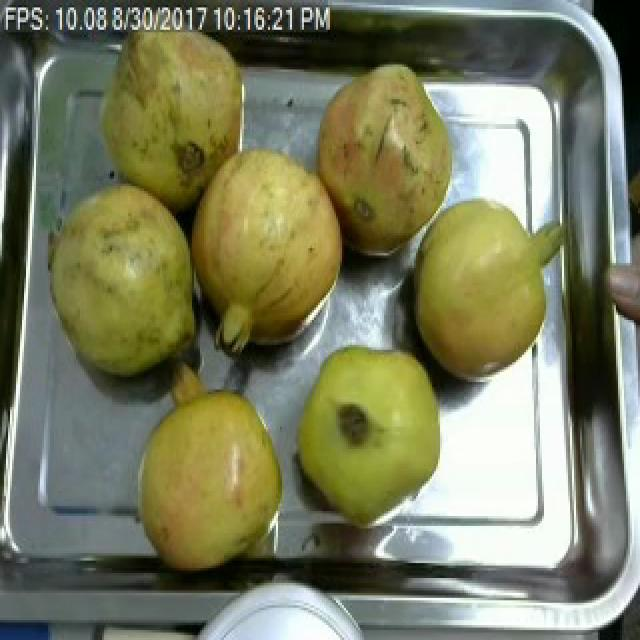fruit: (180, 132, 356, 374), (32, 161, 212, 397), (120, 365, 296, 578), (82, 0, 256, 203), (302, 52, 462, 270), (286, 330, 450, 531), (402, 183, 560, 390)
